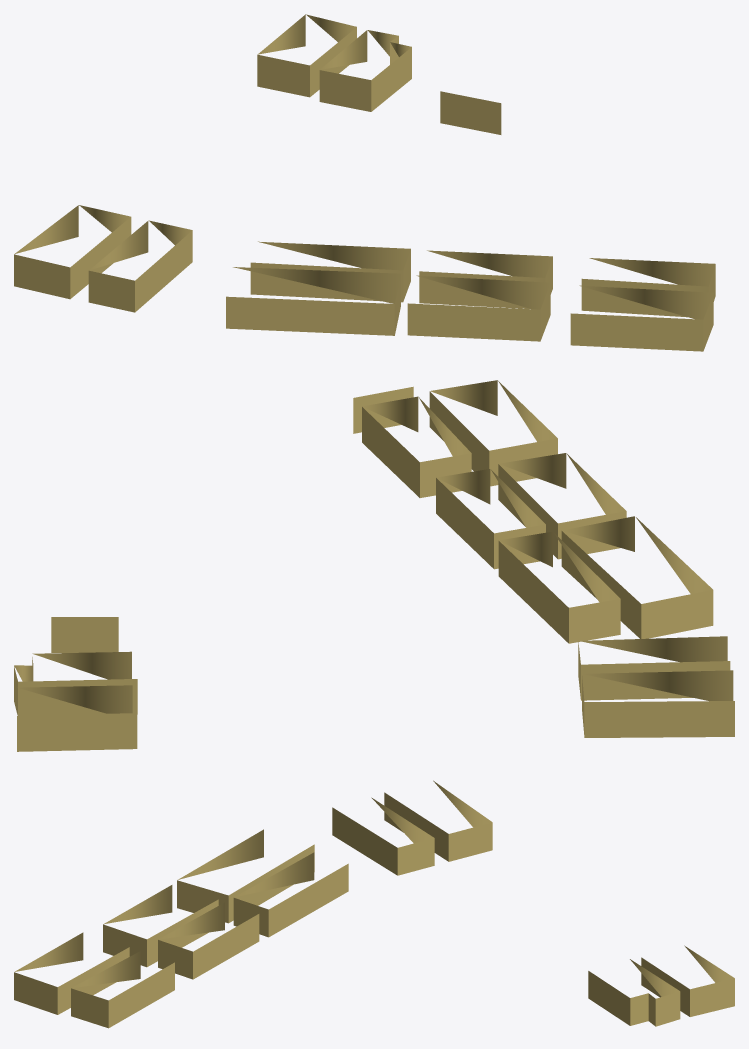
3 renders of one model, top to bottom at view 1: azimuth 30°, elevation 25°; view 2: azimuth 150°, elevation 25°; view 3: azimuth 270°, elevation 25°, orthographic. The views are drawn at different scales.
Size of the model in its own units: 174 by 10 by 234.
